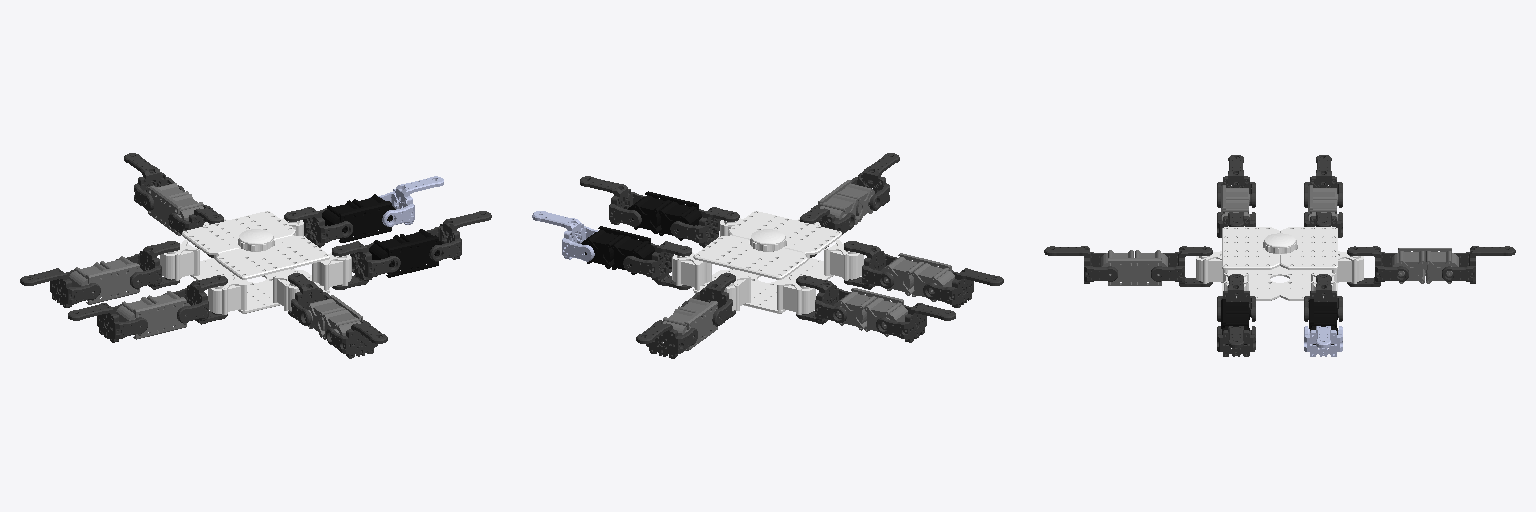
--- What the picture shows (computed from the rendered views, not written in the file) ---
3 views of the same robot in one strip: view 1: azimuth 30°, elevation 25°; view 2: azimuth 150°, elevation 25°; view 3: azimuth 270°, elevation 25° (orthographic).
Robot: myrobot — 19 links, 18 joints (18 revolute); root link base_link; default pose: every joint at zero.
Links seen in each view (by area): view 1: base_link, BR_2, BL_2, FL_2, FR_2, BL_1, FR_3, FL_3, RR_2, LL_2, FL_1, FR_1 (+7 smaller); view 2: base_link, FL_2, FR_2, BL_2, BR_2, BR_1, LL_2, RR_2, FL_3, FR_3, FR_1, FL_1 (+7 smaller); view 3: base_link, RR_2, LL_2, LL_1, RR_1, LL_3, RR_3, BL_3, BR_3, FL_3, FR_3, BR_1 (+7 smaller).
Boxes of the visible links, x1,y1,x2,y2 form: base_link: [160, 211, 351, 314]; BR_2: [322, 194, 395, 242]; BL_2: [369, 229, 442, 277]; FL_2: [116, 291, 190, 339]; FR_2: [69, 256, 142, 304]; BL_1: [332, 241, 400, 289]; FR_3: [20, 268, 100, 307]; FL_3: [68, 303, 147, 342]; RR_2: [148, 183, 203, 235]; LL_2: [305, 295, 362, 347]; FL_1: [163, 275, 227, 324]; FR_1: [116, 241, 179, 289]; base_link: [672, 211, 863, 314]; FL_2: [881, 253, 954, 301]; FR_2: [834, 288, 907, 336]; BL_2: [628, 191, 701, 240]; BR_2: [581, 226, 654, 274]; BR_1: [623, 241, 691, 289]; LL_2: [818, 180, 875, 232]; RR_2: [663, 298, 719, 350]; FL_3: [923, 268, 1003, 307]; FR_3: [876, 303, 955, 342]; FR_1: [796, 275, 850, 324]; FL_1: [844, 241, 897, 289]; base_link: [1196, 226, 1363, 300]; RR_2: [1392, 248, 1458, 283]; LL_2: [1101, 250, 1167, 285]; LL_1: [1151, 246, 1212, 286]; RR_1: [1347, 246, 1408, 286]; LL_3: [1044, 246, 1117, 283]; RR_3: [1442, 246, 1515, 283]; BL_3: [1217, 326, 1255, 356]; BR_3: [1304, 326, 1342, 356]; FL_3: [1217, 155, 1255, 207]; FR_3: [1304, 155, 1342, 207]; BR_1: [1304, 274, 1342, 321].
Bounding box of the posed robot: 0.4487 × 0.4697 × 0.0507 m (x, y, z).
19 mesh visuals loaded from 15 distinct referenced files (15 binary STL).

The robot description file, URDF, robot "myrobot":
<?xml version="1.0" encoding="utf-8"?>
<!-- This URDF was automatically created by SolidWorks to URDF Exporter! Originally created by Stephen Brawner ([email redacted]) 
     Commit Version: 1.6.0-4-g7f85cfe  Build Version: 1.6.7995.38578
     For more information, please see http://wiki.ros.org/sw_urdf_exporter -->
<robot
  name="myrobot">
  <link
    name="base_link">
    <inertial>
      <origin
        xyz="1.76763667817799E-17 -0.0171485845336211 -1.04748840188325E-17"
        rpy="0 0 0" />
      <mass
        value="0.165607893400824" />
      <inertia
        ixx="2.65317387554011E-05"
        ixy="-3.94565152187794E-22"
        ixz="6.51897714497928E-21"
        iyy="7.34896596229329E-05"
        iyz="-2.3896810845762E-23"
        izz="5.81585267815824E-05" />
    </inertial>
    <visual>
      <origin
        xyz="0 0 0"
        rpy="0 0 0" />
      <geometry>
        <mesh
          filename="package://myrobot/meshes/base_link.STL" />
      </geometry>
      <material
        name="">
        <color
          rgba="1 1 1 1" />
      </material>
    </visual>
    <collision>
      <origin
        xyz="0 0 0"
        rpy="0 0 0" />
      <geometry>
        <mesh
          filename="package://myrobot/meshes/base_link.STL" />
      </geometry>
    </collision>
  </link>
  <link
    name="LL_1">
    <inertial>
      <origin
        xyz="0.00027257635798784 -0.0150774236420123 0.0230904923697639"
        rpy="0 0 0" />
      <mass
        value="0.0101588260627757" />
      <inertia
        ixx="9.92706717585344E-07"
        ixy="2.43548257865977E-14"
        ixz="-4.64911168063634E-09"
        iyy="9.92706717585345E-07"
        iyz="4.64911168063443E-09"
        izz="4.70243537735178E-07" />
    </inertial>
    <visual>
      <origin
        xyz="0 0 0"
        rpy="0 0 0" />
      <geometry>
        <mesh
          filename="package://myrobot/meshes/LL_1.STL" />
      </geometry>
      <material
        name="">
        <color
          rgba="0.298039215686275 0.298039215686275 0.298039215686275 1" />
      </material>
    </visual>
    <collision>
      <origin
        xyz="0 0 0"
        rpy="0 0 0" />
      <geometry>
        <mesh
          filename="package://myrobot/meshes/LL_1.STL" />
      </geometry>
    </collision>
  </link>
  <joint
    name="LL_shoulder"
    type="revolute">
    <origin
      xyz="0 -0.075 -0.0038"
      rpy="1.5708 0 0" />
    <parent
      link="base_link" />
    <child
      link="LL_1" />
    <axis
      xyz="0 1 0" />
    <limit effort="0.48" velocity="6.55" lower="-2.35" upper="2.35"/>
  </joint>
  <link
    name="LL_2">
    <inertial>
      <origin
        xyz="1.10351588977764E-11 -0.0239999999688915 0.00116762029858311"
        rpy="0 0 0" />
      <mass
        value="0.0366515740828531" />
      <inertia
        ixx="4.99836520663324E-06"
        ixy="1.80262126117316E-12"
        ixz="7.0239549182291E-14"
        iyy="3.45961425998285E-06"
        iyz="-2.2005110334657E-15"
        izz="4.76029985023808E-06" />
    </inertial>
    <visual>
      <origin
        xyz="0 0 0"
        rpy="0 0 0" />
      <geometry>
        <mesh
          filename="package://myrobot/meshes/LL_2.STL" />
      </geometry>
      <material
        name="">
        <color
          rgba="0.498039215686275 0.498039215686275 0.498039215686275 1" />
      </material>
    </visual>
    <collision>
      <origin
        xyz="0 0 0"
        rpy="0 0 0" />
      <geometry>
        <mesh
          filename="package://myrobot/meshes/LL_2.STL" />
      </geometry>
    </collision>
  </link>
  <joint
    name="LL_elbow"
    type="revolute">
    <origin
      xyz="0.000150000000000244 -0.01535 0.046"
      rpy="-1.5707963267949 0 -1.5707963267949" />
    <parent
      link="LL_1" />
    <child
      link="LL_2" />
    <axis
      xyz="0 0 1" />
    <limit effort="0.48" velocity="6.55" lower="-2.35" upper="2.35"/>
  </joint>
  <link
    name="LL_3">
    <inertial>
      <origin
        xyz="-0.00506893689430646 -0.0150384371444412 0.0233397885137313"
        rpy="0 0 0" />
      <mass
        value="0.00888763132006736" />
      <inertia
        ixx="1.07641612412018E-06"
        ixy="1.21349880281288E-14"
        ixz="2.38916325471747E-08"
        iyy="1.10007778721422E-06"
        iyz="4.64911588454363E-09"
        izz="4.34149908785613E-07" />
    </inertial>
    <visual>
      <origin
        xyz="0 0 0"
        rpy="0 0 0" />
      <geometry>
        <mesh
          filename="package://myrobot/meshes/LL_3.STL" />
      </geometry>
      <material
        name="">
        <color
          rgba="0.298039215686275 0.298039215686275 0.298039215686275 1" />
      </material>
    </visual>
    <collision>
      <origin
        xyz="0 0 0"
        rpy="0 0 0" />
      <geometry>
        <mesh
          filename="package://myrobot/meshes/LL_3.STL" />
      </geometry>
    </collision>
  </link>
  <joint
    name="LL_wrist"
    type="revolute">
    <origin
      xyz="0 -0.048 0.0152"
      rpy="1.5707963267949 0 0" />
    <parent
      link="LL_2" />
    <child
      link="LL_3" />
    <axis
      xyz="0 1 0" />
    <limit effort="0.48" velocity="6.55" lower="-2.35" upper="2.35"/>
  </joint>
  <link
    name="RR_1">
    <inertial>
      <origin
        xyz="0.000272576357987848 -0.0150774236420123 0.0230904923697639"
        rpy="0 0 0" />
      <mass
        value="0.0101588260627757" />
      <inertia
        ixx="9.92706717585345E-07"
        ixy="2.43548258973788E-14"
        ixz="-4.64911168063718E-09"
        iyy="9.92706717585345E-07"
        iyz="4.64911168063445E-09"
        izz="4.70243537735178E-07" />
    </inertial>
    <visual>
      <origin
        xyz="0 0 0"
        rpy="0 0 0" />
      <geometry>
        <mesh
          filename="package://myrobot/meshes/RR_1.STL" />
      </geometry>
      <material
        name="">
        <color
          rgba="0.298039215686275 0.298039215686275 0.298039215686275 1" />
      </material>
    </visual>
    <collision>
      <origin
        xyz="0 0 0"
        rpy="0 0 0" />
      <geometry>
        <mesh
          filename="package://myrobot/meshes/RR_1.STL" />
      </geometry>
    </collision>
  </link>
  <joint
    name="RR_shoulder"
    type="revolute">
    <origin
      xyz="0 0.075 -0.0038"
      rpy="1.5708 0 3.1416" />
    <parent
      link="base_link" />
    <child
      link="RR_1" />
    <axis
      xyz="0 1 0" />
    <limit effort="0.48" velocity="6.55" lower="-2.35" upper="2.35"/>
  </joint>
  <link
    name="RR_2">
    <inertial>
      <origin
        xyz="4.72520980676627E-12 -0.0239999999862903 0.00116762028710718"
        rpy="0 0 0" />
      <mass
        value="0.0366515740532599" />
      <inertia
        ixx="4.9983651919492E-06"
        ixy="1.80785624695528E-12"
        ixz="7.06315296566302E-14"
        iyy="3.45961425818012E-06"
        iyz="-8.89266744167567E-16"
        izz="4.76029983389391E-06" />
    </inertial>
    <visual>
      <origin
        xyz="0 0 0"
        rpy="0 0 0" />
      <geometry>
        <mesh
          filename="package://myrobot/meshes/RR_2.STL" />
      </geometry>
      <material
        name="">
        <color
          rgba="0.498039215686275 0.498039215686275 0.498039215686275 1" />
      </material>
    </visual>
    <collision>
      <origin
        xyz="0 0 0"
        rpy="0 0 0" />
      <geometry>
        <mesh
          filename="package://myrobot/meshes/RR_2.STL" />
      </geometry>
    </collision>
  </link>
  <joint
    name="RR_elbow"
    type="revolute">
    <origin
      xyz="0.000150000000000235 -0.01535 0.046"
      rpy="-1.5707963267949 0 -1.5707963267949" />
    <parent
      link="RR_1" />
    <child
      link="RR_2" />
    <axis
      xyz="0 0 1" />
    <limit effort="0.48" velocity="6.55" lower="-2.35" upper="2.35"/>
  </joint>
  <link
    name="RR_3">
    <inertial>
      <origin
        xyz="0.00506893689430646 -0.0156615628555583 0.0233397885137313"
        rpy="0 0 0" />
      <mass
        value="0.00888763132006736" />
      <inertia
        ixx="1.07641612412018E-06"
        ixy="1.21349877252835E-14"
        ixz="-2.38916325471745E-08"
        iyy="1.10007778721422E-06"
        iyz="-4.64911588454951E-09"
        izz="4.34149908785613E-07" />
    </inertial>
    <visual>
      <origin
        xyz="0 0 0"
        rpy="0 0 0" />
      <geometry>
        <mesh
          filename="package://myrobot/meshes/RR_3.STL" />
      </geometry>
      <material
        name="">
        <color
          rgba="0.298039215686275 0.298039215686275 0.298039215686275 1" />
      </material>
    </visual>
    <collision>
      <origin
        xyz="0 0 0"
        rpy="0 0 0" />
      <geometry>
        <mesh
          filename="package://myrobot/meshes/RR_3.STL" />
      </geometry>
    </collision>
  </link>
  <joint
    name="RR_wrist"
    type="revolute">
    <origin
      xyz="0 -0.0479999999999999 -0.0155"
      rpy="-1.5707963267949 0 -3.14159265358979" />
    <parent
      link="RR_2" />
    <child
      link="RR_3" />
    <axis
      xyz="0 1 0" />
    <limit effort="0.48" velocity="6.55" lower="-2.35" upper="2.35"/>
  </joint>
  <link
    name="FL_1">
    <inertial>
      <origin
        xyz="0.000272576357987851 0.0150774236420124 -0.0230904923697638"
        rpy="0 0 0" />
      <mass
        value="0.0101588260627757" />
      <inertia
        ixx="9.92706717585345E-07"
        ixy="-2.43548259009786E-14"
        ixz="4.64911168063721E-09"
        iyy="9.92706717585346E-07"
        iyz="4.64911168063459E-09"
        izz="4.70243537735178E-07" />
    </inertial>
    <visual>
      <origin
        xyz="0 0 0"
        rpy="0 0 0" />
      <geometry>
        <mesh
          filename="package://myrobot/meshes/FL_1.STL" />
      </geometry>
      <material
        name="">
        <color
          rgba="0.298039215686275 0.298039215686275 0.298039215686275 1" />
      </material>
    </visual>
    <collision>
      <origin
        xyz="0 0 0"
        rpy="0 0 0" />
      <geometry>
        <mesh
          filename="package://myrobot/meshes/FL_1.STL" />
      </geometry>
    </collision>
  </link>
  <joint
    name="FL_shoulder"
    type="revolute">
    <origin
      xyz="-0.0645 -0.0435 -0.0038"
      rpy="-1.5708 0 -1.5708" />
    <parent
      link="base_link" />
    <child
      link="FL_1" />
    <axis
      xyz="0 1 0" />
    <limit effort="0.48" velocity="6.55" lower="-2.35" upper="2.35"/>
  </joint>
  <link
    name="FL_2">
    <inertial>
      <origin
        xyz="1.10349784865349E-11 -0.0239999999688916 0.00116762029858324"
        rpy="0 0 0" />
      <mass
        value="0.0366515740828531" />
      <inertia
        ixx="4.99836520663323E-06"
        ixy="1.80262126146179E-12"
        ixz="7.02395492810242E-14"
        iyy="3.45961425998284E-06"
        iyz="-2.20050423118435E-15"
        izz="4.76029985023807E-06" />
    </inertial>
    <visual>
      <origin
        xyz="0 0 0"
        rpy="0 0 0" />
      <geometry>
        <mesh
          filename="package://myrobot/meshes/FL_2.STL" />
      </geometry>
      <material
        name="">
        <color
          rgba="0.498039215686275 0.498039215686275 0.498039215686275 1" />
      </material>
    </visual>
    <collision>
      <origin
        xyz="0 0 0"
        rpy="0 0 0" />
      <geometry>
        <mesh
          filename="package://myrobot/meshes/FL_2.STL" />
      </geometry>
    </collision>
  </link>
  <joint
    name="FL_elbow"
    type="revolute">
    <origin
      xyz="0.000150000000000247 0.0153500000000003 -0.0459999999999999"
      rpy="1.5707963267949 0 1.5707963267949" />
    <parent
      link="FL_1" />
    <child
      link="FL_2" />
    <axis
      xyz="0 0 1" />
    <limit effort="0.48" velocity="6.55" lower="-2.35" upper="2.35"/>
  </joint>
  <link
    name="FL_3">
    <inertial>
      <origin
        xyz="-0.0050689368943065 -0.0150384371444413 0.0233397885137312"
        rpy="0 0 0" />
      <mass
        value="0.00888763132006735" />
      <inertia
        ixx="1.07641612412018E-06"
        ixy="1.21349880263451E-14"
        ixz="2.38916325471761E-08"
        iyy="1.10007778721422E-06"
        iyz="4.64911588454726E-09"
        izz="4.34149908785613E-07" />
    </inertial>
    <visual>
      <origin
        xyz="0 0 0"
        rpy="0 0 0" />
      <geometry>
        <mesh
          filename="package://myrobot/meshes/FL_3.STL" />
      </geometry>
      <material
        name="">
        <color
          rgba="0.298039215686275 0.298039215686275 0.298039215686275 1" />
      </material>
    </visual>
    <collision>
      <origin
        xyz="0 0 0"
        rpy="0 0 0" />
      <geometry>
        <mesh
          filename="package://myrobot/meshes/FL_3.STL" />
      </geometry>
    </collision>
  </link>
  <joint
    name="FL_wrist"
    type="revolute">
    <origin
      xyz="0 -0.048 0.0152000000000002"
      rpy="1.57079632679489 0 0" />
    <parent
      link="FL_2" />
    <child
      link="FL_3" />
    <axis
      xyz="0 1 0" />
    <limit effort="0.48" velocity="6.55" lower="-2.35" upper="2.35"/>
  </joint>
  <link
    name="FR_1">
    <inertial>
      <origin
        xyz="-0.000272576357987844 -0.0156225763579876 0.0230904923697639"
        rpy="0 0 0" />
      <mass
        value="0.0101588260627757" />
      <inertia
        ixx="9.92706717585344E-07"
        ixy="2.43548258810166E-14"
        ixz="4.64911168063699E-09"
        iyy="9.92706717585345E-07"
        iyz="-4.64911168063448E-09"
        izz="4.70243537735178E-07" />
    </inertial>
    <visual>
      <origin
        xyz="0 0 0"
        rpy="0 0 0" />
      <geometry>
        <mesh
          filename="package://myrobot/meshes/FR_1.STL" />
      </geometry>
      <material
        name="">
        <color
          rgba="0.298039215686275 0.298039215686275 0.298039215686275 1" />
      </material>
    </visual>
    <collision>
      <origin
        xyz="0 0 0"
        rpy="0 0 0" />
      <geometry>
        <mesh
          filename="package://myrobot/meshes/FR_1.STL" />
      </geometry>
    </collision>
  </link>
  <joint
    name="FR_shoulder"
    type="revolute">
    <origin
      xyz="-0.0645 0.0435 -0.0345"
      rpy="-1.5708 0 1.5708" />
    <parent
      link="base_link" />
    <child
      link="FR_1" />
    <axis
      xyz="0 1 0" />
    <limit effort="0.48" velocity="6.55" lower="-2.35" upper="2.35"/>
  </joint>
  <link
    name="FR_2">
    <inertial>
      <origin
        xyz="1.09981017348826E-11 -0.0239999999704085 0.00116762029948228"
        rpy="0 0 0" />
      <mass
        value="0.036651574085985" />
      <inertia
        ixx="4.99836520765364E-06"
        ixy="1.80263872504368E-12"
        ixz="7.01960838342865E-14"
        iyy="3.45961425989209E-06"
        iyz="-2.32312497606273E-15"
        izz="4.76029985118644E-06" />
    </inertial>
    <visual>
      <origin
        xyz="0 0 0"
        rpy="0 0 0" />
      <geometry>
        <mesh
          filename="package://myrobot/meshes/FR_2.STL" />
      </geometry>
      <material
        name="">
        <color
          rgba="0.498039215686275 0.498039215686275 0.498039215686275 1" />
      </material>
    </visual>
    <collision>
      <origin
        xyz="0 0 0"
        rpy="0 0 0" />
      <geometry>
        <mesh
          filename="package://myrobot/meshes/FR_2.STL" />
      </geometry>
    </collision>
  </link>
  <joint
    name="FR_elbow"
    type="revolute">
    <origin
      xyz="-0.000150000000000219 -0.0153499999999997 0.0459999999999999"
      rpy="-1.5707963267949 0 1.5707963267949" />
    <parent
      link="FR_1" />
    <child
      link="FR_2" />
    <axis
      xyz="0 0 1" />
    <limit effort="0.48" velocity="6.55" lower="-2.35" upper="2.35"/>
  </joint>
  <link
    name="FR_3">
    <inertial>
      <origin
        xyz="0.00506893689430652 -0.0156615628555587 0.0233397885137313"
        rpy="0 0 0" />
      <mass
        value="0.00888763132006736" />
      <inertia
        ixx="1.07641612412018E-06"
        ixy="1.21349878115951E-14"
        ixz="-2.38916325471764E-08"
        iyy="1.10007778721422E-06"
        iyz="-4.6491158845475E-09"
        izz="4.34149908785614E-07" />
    </inertial>
    <visual>
      <origin
        xyz="0 0 0"
        rpy="0 0 0" />
      <geometry>
        <mesh
          filename="package://myrobot/meshes/FR_3.STL" />
      </geometry>
      <material
        name="">
        <color
          rgba="0.298039215686275 0.298039215686275 0.298039215686275 1" />
      </material>
    </visual>
    <collision>
      <origin
        xyz="0 0 0"
        rpy="0 0 0" />
      <geometry>
        <mesh
          filename="package://myrobot/meshes/FR_3.STL" />
      </geometry>
    </collision>
  </link>
  <joint
    name="FR_wrist"
    type="revolute">
    <origin
      xyz="0 -0.0480000000000001 -0.0154999999999998"
      rpy="-1.57079632679489 0 -3.14159265358979" />
    <parent
      link="FR_2" />
    <child
      link="FR_3" />
    <axis
      xyz="0 1 0" />
    <limit effort="0.48" velocity="6.55" lower="-2.35" upper="2.35"/>
  </joint>
  <link
    name="BL_1">
    <inertial>
      <origin
        xyz="0.000272576357987844 -0.0150774236420123 0.0230904923697639"
        rpy="0 0 0" />
      <mass
        value="0.0101588260627757" />
      <inertia
        ixx="9.92706717585345E-07"
        ixy="2.4354825861125E-14"
        ixz="-4.64911168063718E-09"
        iyy="9.92706717585347E-07"
        iyz="4.64911168063447E-09"
        izz="4.70243537735178E-07" />
    </inertial>
    <visual>
      <origin
        xyz="0 0 0"
        rpy="0 0 0" />
      <geometry>
        <mesh
          filename="package://myrobot/meshes/BL_1.STL" />
      </geometry>
      <material
        name="">
        <color
          rgba="0.298039215686275 0.298039215686275 0.298039215686275 1" />
      </material>
    </visual>
    <collision>
      <origin
        xyz="0 0 0"
        rpy="0 0 0" />
      <geometry>
        <mesh
          filename="package://myrobot/meshes/BL_1.STL" />
      </geometry>
    </collision>
  </link>
  <joint
    name="BL_shoulder"
    type="revolute">
    <origin
      xyz="0.0645 -0.0435 -0.0038"
      rpy="1.5708 0 1.5708" />
    <parent
      link="base_link" />
    <child
      link="BL_1" />
    <axis
      xyz="0 1 0" />
    <limit effort="0.48" velocity="6.55" lower="-2.35" upper="2.35"/>
  </joint>




  <link
    name="BL_2">
    <inertial>
      <origin
        xyz="1.10349784865349E-11 0.0239999999688916 0.00116762029858324"
        rpy="0 0 0" />
      <mass
        value="0.0366515740322333" />
      <inertia
        ixx="3.45961425678384E-06"
        ixy="-1.22626895790549E-16"
        ixz="-1.8117107993647E-12"
        iyy="4.76029982244647E-06"
        iyz="7.09466148622405E-14"
        izz="4.99836518177378E-06" />
    </inertial>
    <visual>
      <origin
        xyz="0 0 0"
        rpy="0 0 0" />
      <geometry>
        <mesh
          filename="package://myrobot/meshes/FR_2.STL" />
      </geometry>
      <material
        name="">
        <color
          rgba="0.109803921568627 0.109803921568627 0.109803921568627 1" />
      </material>
    </visual>
    <collision>
      <origin
        xyz="0 0 0"
        rpy="0 0 0" />
      <geometry>
        <mesh
          filename="package://myrobot/meshes/FR_2.STL" />
      </geometry>
    </collision>
  </link>
  <joint
    name="BL_elbow"
    type="revolute">
    <origin
      xyz="0 -0.0153500000000004 0.046"
      rpy="-1.5707963267949 0 1.5707963267949" />
    <parent
      link="BL_1" />
    <child
      link="BL_2" />
    <axis
      xyz="0 0 1" />
    <limit effort="0.48" velocity="6.55" lower="-2.35" upper="2.35"/>
  </joint>
  <link
    name="BL_3">
    <inertial>
      <origin
        xyz="-0.00506893689430653 -0.0150384371444413 0.0233397885137312"
        rpy="0 0 0" />
      <mass
        value="0.00888763132006735" />
      <inertia
        ixx="1.07641612412018E-06"
        ixy="1.21349878655195E-14"
        ixz="2.38916325471763E-08"
        iyy="1.10007778721422E-06"
        iyz="4.64911588454717E-09"
        izz="4.34149908785613E-07" />
    </inertial>
    <visual>
      <origin
        xyz="0 0 0"
        rpy="0 0 0" />
      <geometry>
        <mesh
          filename="package://myrobot/meshes/FL_3.STL" />
      </geometry>
      <material
        name="">
        <color
          rgba="0.298039215686275 0.298039215686275 0.298039215686275 1" />
      </material>
    </visual>
    <collision>
      <origin
        xyz="0 0 0"
        rpy="0 0 0" />
      <geometry>
        <mesh
          filename="package://myrobot/meshes/FL_3.STL" />
      </geometry>
    </collision>
  </link>
  <joint
    name="BL_wrist"
    type="revolute">
    <origin 
       xyz="0 -0.048 -0.0152000000000002"
      rpy="-1.57079632679489 0 3.14159265" />
    <parent
      link="BL_2" />
    <child
      link="BL_3" />
    <axis
      xyz="0 1 0" />
    <limit effort="0.48" velocity="6.55" lower="-2.35" upper="2.35"/>
  </joint>
  <link
    name="BR_1">
    <inertial>
      <origin 
        xyz="-0.000272576357987837 0.0156225763579877 -0.0230904923697639"
        rpy="0 0 0" />
      <mass
        value="0.0101588260627757" />
      <inertia
        ixx="9.92706717585345E-07"
        ixy="-2.43548258710248E-14"
        ixz="-4.64911168063696E-09"
        iyy="9.92706717585346E-07"
        iyz="-4.64911168063455E-09"
        izz="4.70243537735178E-07" />
    </inertial>
    <visual>
      <origin
        xyz="0 0 0"
        rpy="0 0 0" />
      <geometry>
        <mesh
          filename="package://myrobot/meshes/BR_1.STL" />
      </geometry>
      <material
        name="">
        <color
          rgba="0.298039215686275 0.298039215686275 0.298039215686275 1" />
      </material>
    </visual>
    <collision>
      <origin
        xyz="0 0 0"
        rpy="0 0 0" />
      <geometry>
        <mesh
          filename="package://myrobot/meshes/BR_1.STL" />
      </geometry>
    </collision>
  </link>
  <joint
    name="BR_shoulder"
    type="revolute">
    <origin
      xyz="0.0644999999999999 0.0435000000000001 -0.0345"
      rpy="1.5707963267949 0 -1.5707963267949" />
    <parent
      link="base_link" />
    <child
      link="BR_1" />
    <axis
      xyz="0 1 0" />
    <limit effort="0.48" velocity="6.55" lower="-2.35" upper="2.35"/>
  </joint>
  <link
    name="BR_2">
    <inertial>
      <!-- <origin
        xyz="2.95914959203003E-11 0.0138323797005178 -1.09984937823882E-11"
        rpy="0 0 0" /> -->
      <origin
        xyz="1.10349784865349E-11 0.0239999999688916 0.00116762029858324"
        rpy="0 0 0" />
      <mass
        value="0.036651574085985" />
      <inertia
        ixx="3.45961425989208E-06"
        ixy="2.32312496758063E-15"
        ixz="-1.80263873327485E-12"
        iyy="4.76029985118644E-06"
        iyz="7.01960838967022E-14"
        izz="4.99836520765364E-06" />
    </inertial>
    <visual>
      <origin
        xyz="0 0 0"
        rpy="0 0 0" />
      <geometry>
        <mesh
          filename="package://myrobot/meshes/FR_2.STL" />
      </geometry>
      <material
        name="">
        <color
          rgba="0.109803921568627 0.109803921568627 0.109803921568627 1" />
      </material>
    </visual>
    <collision>
      <origin
        xyz="0 0 0"
        rpy="0 0 0" />
      <geometry>
        <mesh
          filename="package://myrobot/meshes/FR_2.STL" />
      </geometry>
    </collision>
  </link>
  <joint
    name="BR_elbow"
    type="revolute">
    <origin
      xyz="0 0.0153500000000004 -0.046"
      rpy="1.5707963267949 0 1.5707963267949" />
    <parent
      link="BR_1" />
    <child
      link="BR_2" />
    <axis
      xyz="0 0 1" />
    <limit effort="0.48" velocity="6.55" lower="-2.35" upper="2.35"/>
  </joint>
  <link
    name="BR_3">
    <inertial>
      <!-- <origin
        xyz="-0.0694619750845981 -0.000352613235815175 -0.00403266596934289"
        rpy="0 0 0" /> -->
      <origin
        xyz="-0.00506893689430653 -0.0150384371444413 0.0233397885137312"
        rpy="0 0 0" />
      <mass
        value="0.0111714787794906" />
      <inertia
        ixx="1.24764460427647E-06"
        ixy="4.64911588454441E-09"
        ixz="-1.21349879190198E-14"
        iyy="7.16048666428673E-07"
        iyz="-2.38916325471746E-08"
        izz="1.22398294118243E-06" />
    </inertial>
    <visual>
      <origin
        xyz="0 0 0"
        rpy="0 0 0" />
      <geometry>
        <mesh
          filename="package://myrobot/meshes/FL_3.STL" />
      </geometry>
      <material
        name="">
        <color
          rgba="0.792156862745098 0.819607843137255 0.933333333333333 1" />
      </material>
    </visual>
    <collision>
      <origin
        xyz="0 0 0"
        rpy="0 0 0" />
      <geometry>
        <mesh
          filename="package://myrobot/meshes/FL_3.STL" />
      </geometry>
    </collision>
  </link>
  <joint
    name="BR_wrist"
    type="revolute">
    <!-- <origin
      xyz="-0.047 0.10215 0"
      rpy="3.14159265358979 0 1.5707963267949" /> -->
    <!-- <origin
      xyz="-0.0239999999999999 -0.000200000000000134 0"
      rpy="3.14159265358979 1.5707963267949 0" /> -->
    <origin 
       xyz="0 -0.048 -0.0152000000000002"
      rpy="-1.57079632679489 0 3.14159265" />
    <parent
      link="BR_2" />
    <child
      link="BR_3" />
    <axis
      xyz="0 1 0" />
    <limit effort="0.48" velocity="6.55" lower="-2.35" upper="2.35"/>
  </joint>
</robot>
